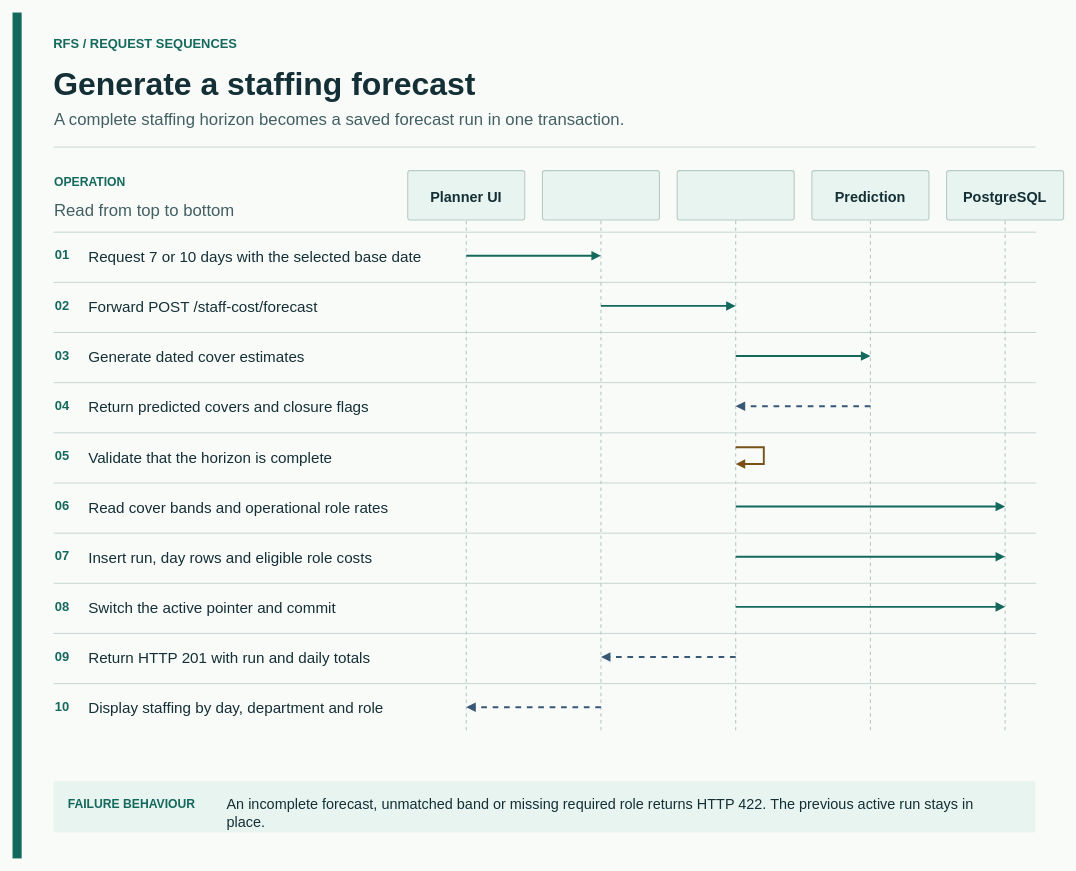
This 1076x871 diagram has some shape labels left out. The shapes that lost their labels are listed below. From the top down, each one's centre as x and y in pixels, then its label:
At point 601,195: "Next.js proxy".
At point 735,195: "Staff service".
